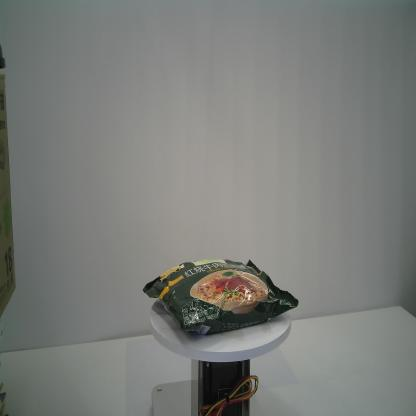Instant Noodles: (141, 255, 300, 338)
